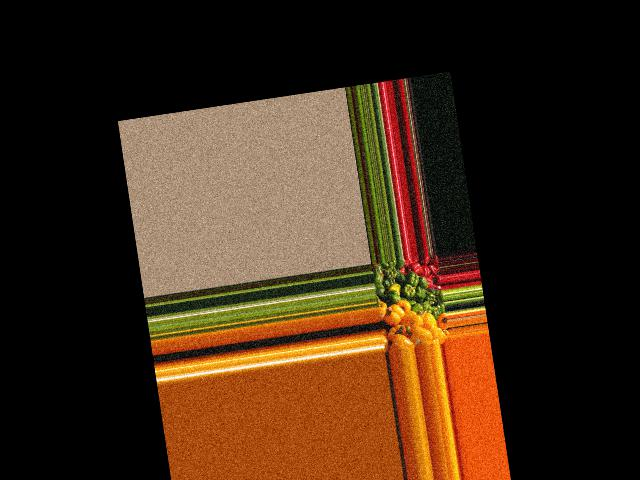bell_pepper: (370, 262, 384, 280)
